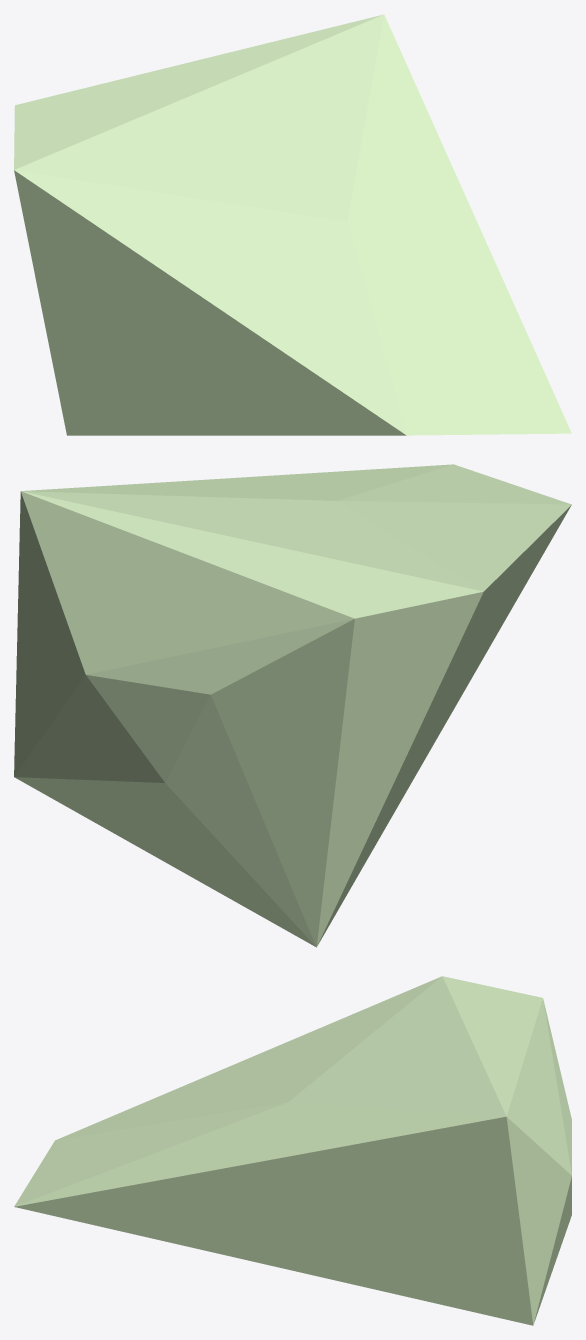
The model's file is kuka_robot_base_coll_14.dae.
3 renders of one model, top to bottom at view 1: azimuth 30°, elevation 25°; view 2: azimuth 150°, elevation 25°; view 3: azimuth 270°, elevation 25°, orthographic. The views are drawn at different scales.
Visible parts, largest first — view 1: Node_0000015C5C916960; view 2: Node_0000015C5C916960; view 3: Node_0000015C5C916960.
Part boxes in pixels (box(x1,y1,x2,y2)): Node_0000015C5C916960: box(14, 14, 571, 435); Node_0000015C5C916960: box(14, 464, 571, 947); Node_0000015C5C916960: box(14, 976, 571, 1325).
Size of the model in its own units: 0.0185 by 0.0154 by 0.0269.
